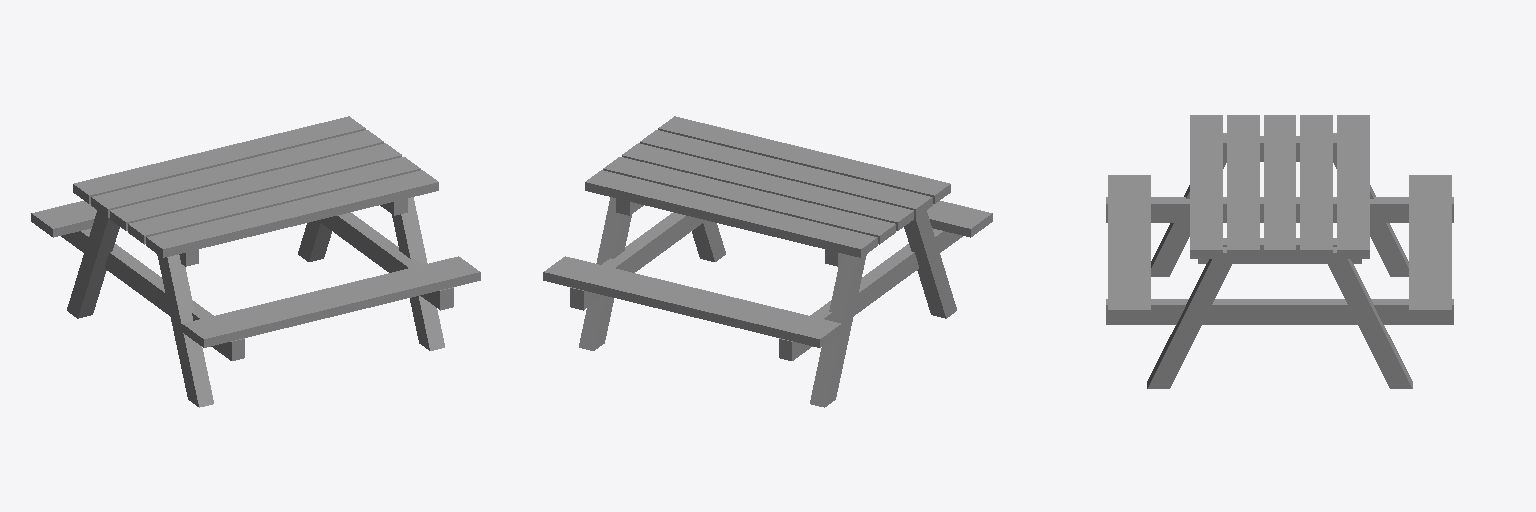
The model's file is BeerBench_blend.obj.
The picture shows the model from 3 angles: view 1: azimuth 30°, elevation 25°; view 2: azimuth 150°, elevation 25°; view 3: azimuth 270°, elevation 25°; orthographic projection.
Parts seen in each view (by area): view 1: Beams_3.000_Cube.042, Seat_1.000_Cube.029, Plank_1.000_Cube.024, Beams_2.000_Cube.041, Plank_2.000_Cube.023, Plank_5.000_Cube.022, Plank_4.000_Cube.021, Plank_3.000_Cube.000, Seat_2.000_Cube.028, Beams_1.000_Cube.040; view 2: Beams_3.000_Cube.042, Seat_2.000_Cube.028, Plank_5.000_Cube.022, Beams_2.000_Cube.041, Plank_4.000_Cube.021, Plank_1.000_Cube.024, Plank_2.000_Cube.023, Plank_3.000_Cube.000, Seat_1.000_Cube.029, Beams_1.000_Cube.040; view 3: Beams_3.000_Cube.042, Beams_2.000_Cube.041, Seat_1.000_Cube.029, Seat_2.000_Cube.028, Plank_1.000_Cube.024, Plank_2.000_Cube.023, Plank_5.000_Cube.022, Plank_4.000_Cube.021, Plank_3.000_Cube.000, Beams_1.000_Cube.040.
Boxes of the visible parts, x1=… form: Beams_3.000_Cube.042: x1=67, y1=197, x2=444, y2=407; Seat_1.000_Cube.029: x1=182, y1=256, x2=480, y2=347; Plank_1.000_Cube.024: x1=146, y1=170, x2=438, y2=257; Beams_2.000_Cube.041: x1=61, y1=212, x2=453, y2=360; Plank_2.000_Cube.023: x1=128, y1=157, x2=420, y2=244; Plank_5.000_Cube.022: x1=73, y1=116, x2=365, y2=203; Plank_4.000_Cube.021: x1=91, y1=130, x2=383, y2=217; Plank_3.000_Cube.000: x1=110, y1=143, x2=401, y2=230; Seat_2.000_Cube.028: x1=31, y1=201, x2=96, y2=237; Beams_1.000_Cube.040: x1=179, y1=198, x2=407, y2=266; Beams_3.000_Cube.042: x1=579, y1=197, x2=956, y2=407; Seat_2.000_Cube.028: x1=543, y1=256, x2=841, y2=347; Plank_5.000_Cube.022: x1=585, y1=170, x2=877, y2=257; Beams_2.000_Cube.041: x1=570, y1=212, x2=962, y2=360; Plank_4.000_Cube.021: x1=603, y1=157, x2=895, y2=244; Plank_1.000_Cube.024: x1=658, y1=116, x2=950, y2=203; Plank_2.000_Cube.023: x1=640, y1=130, x2=932, y2=217; Plank_3.000_Cube.000: x1=622, y1=143, x2=913, y2=230; Seat_1.000_Cube.029: x1=927, y1=201, x2=992, y2=237; Beams_1.000_Cube.040: x1=616, y1=198, x2=844, y2=266; Beams_3.000_Cube.042: x1=1147, y1=133, x2=1412, y2=388; Beams_2.000_Cube.041: x1=1106, y1=197, x2=1453, y2=324; Seat_1.000_Cube.029: x1=1108, y1=175, x2=1150, y2=318; Seat_2.000_Cube.028: x1=1409, y1=175, x2=1451, y2=318; Plank_1.000_Cube.024: x1=1190, y1=115, x2=1222, y2=258; Plank_2.000_Cube.023: x1=1227, y1=115, x2=1259, y2=258; Plank_5.000_Cube.022: x1=1337, y1=115, x2=1369, y2=258; Plank_4.000_Cube.021: x1=1300, y1=115, x2=1332, y2=258; Plank_3.000_Cube.000: x1=1264, y1=115, x2=1295, y2=258; Beams_1.000_Cube.040: x1=1198, y1=136, x2=1361, y2=263.
Bounding box in the file's own units: 6.34 × 3.2 × 6.89.